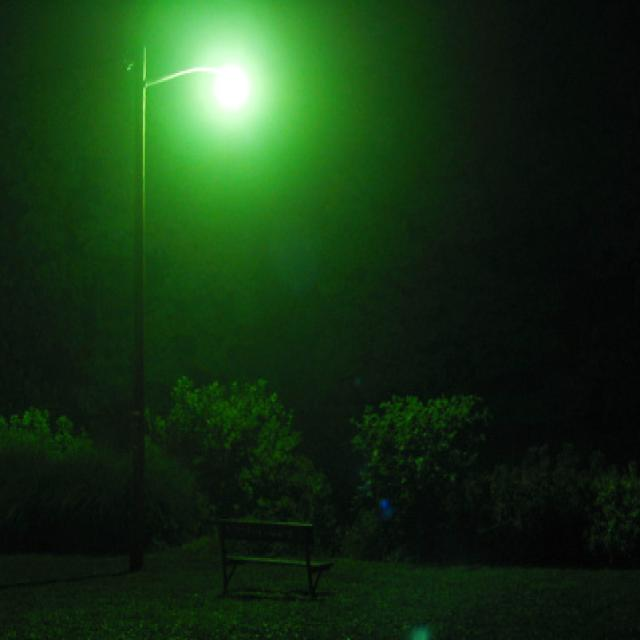chair: (208, 498, 333, 632)
